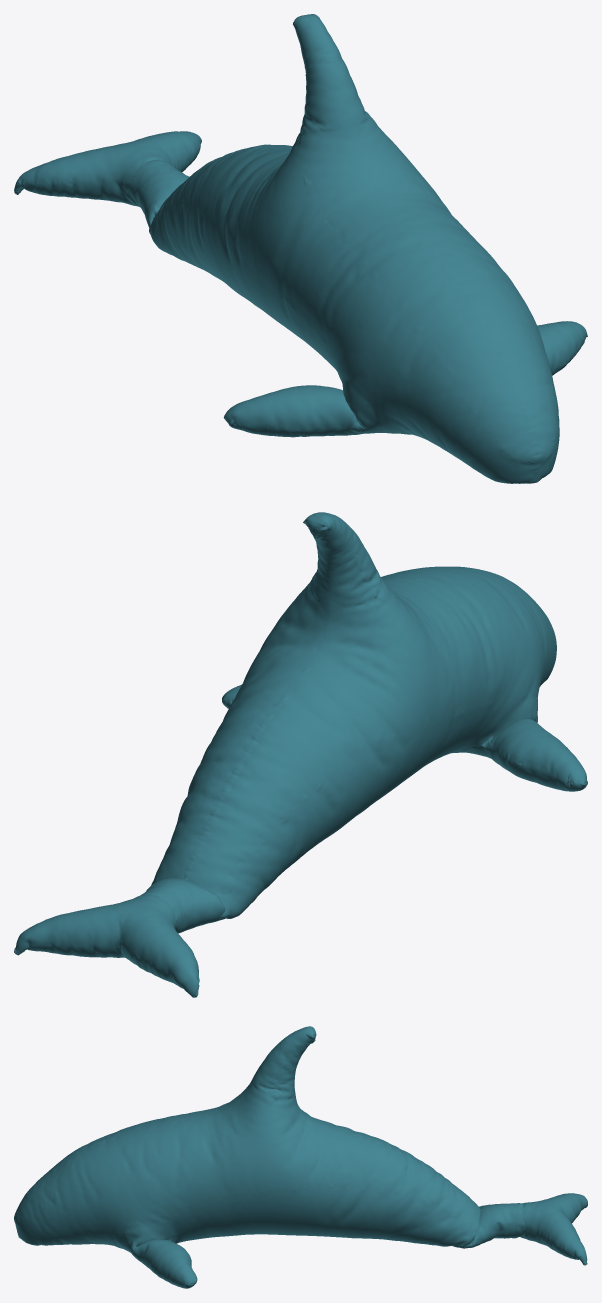
The model's file is Plushy-Animalsy.fbx.
3 views of the same model, one above another, from view 1: azimuth 30°, elevation 25°; view 2: azimuth 150°, elevation 25°; view 3: azimuth 270°, elevation 25° (orthographic). The views are drawn at different scales.
Visible parts, largest first — view 1: Dolphin Plushy; view 2: Dolphin Plushy; view 3: Dolphin Plushy.
Part boxes in pixels (x1,y1,x2,y2): Dolphin Plushy: [14, 14, 587, 483]; Dolphin Plushy: [14, 512, 587, 997]; Dolphin Plushy: [14, 1026, 587, 1288].
Size of the model in its own units: 469 by 384 by 968.
